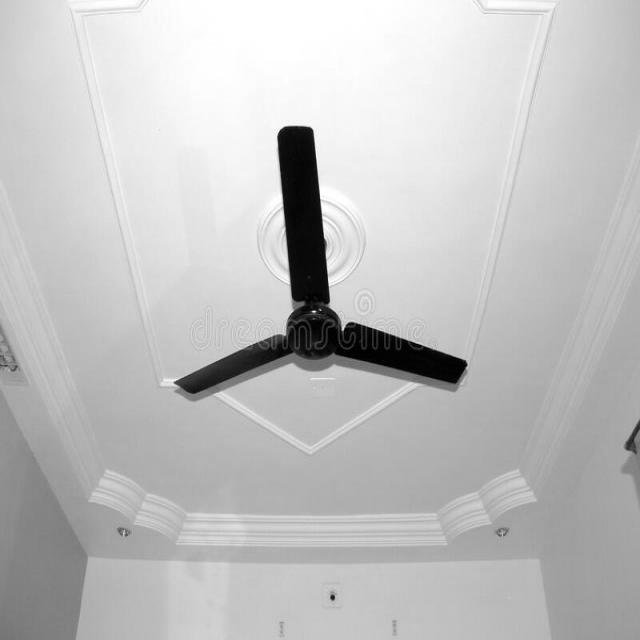fan: (169, 124, 468, 399)
